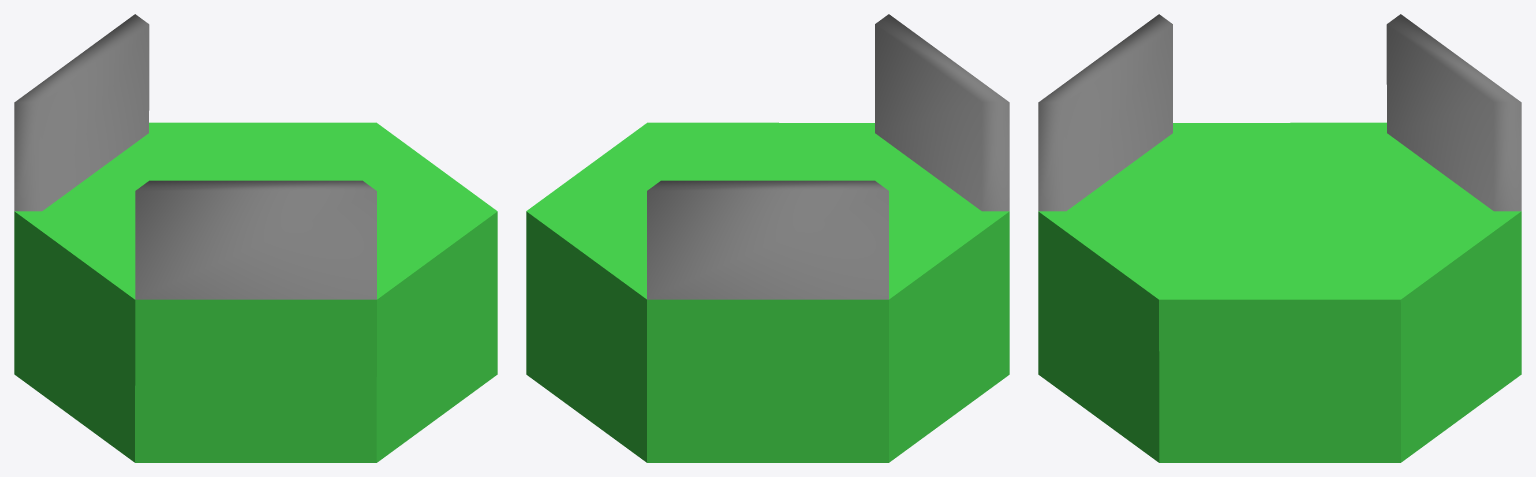
Rendered from NormalTile_Stage1_3Wall.fbx.
3 views of the same model, side by side, from view 1: azimuth 30°, elevation 25°; view 2: azimuth 150°, elevation 25°; view 3: azimuth 270°, elevation 25° (orthographic).
Parts seen in each view (by area): view 1: NormalTile2,1Wall_2; view 2: NormalTile2,1Wall_2; view 3: NormalTile2,1Wall_2.
Part boxes in pixels (x1,y1,x2,y2): NormalTile2,1Wall_2: [14, 14, 497, 462]; NormalTile2,1Wall_2: [526, 14, 1009, 462]; NormalTile2,1Wall_2: [1038, 14, 1521, 462].
Bounding box in the file's own units: 173 × 124 × 200.
